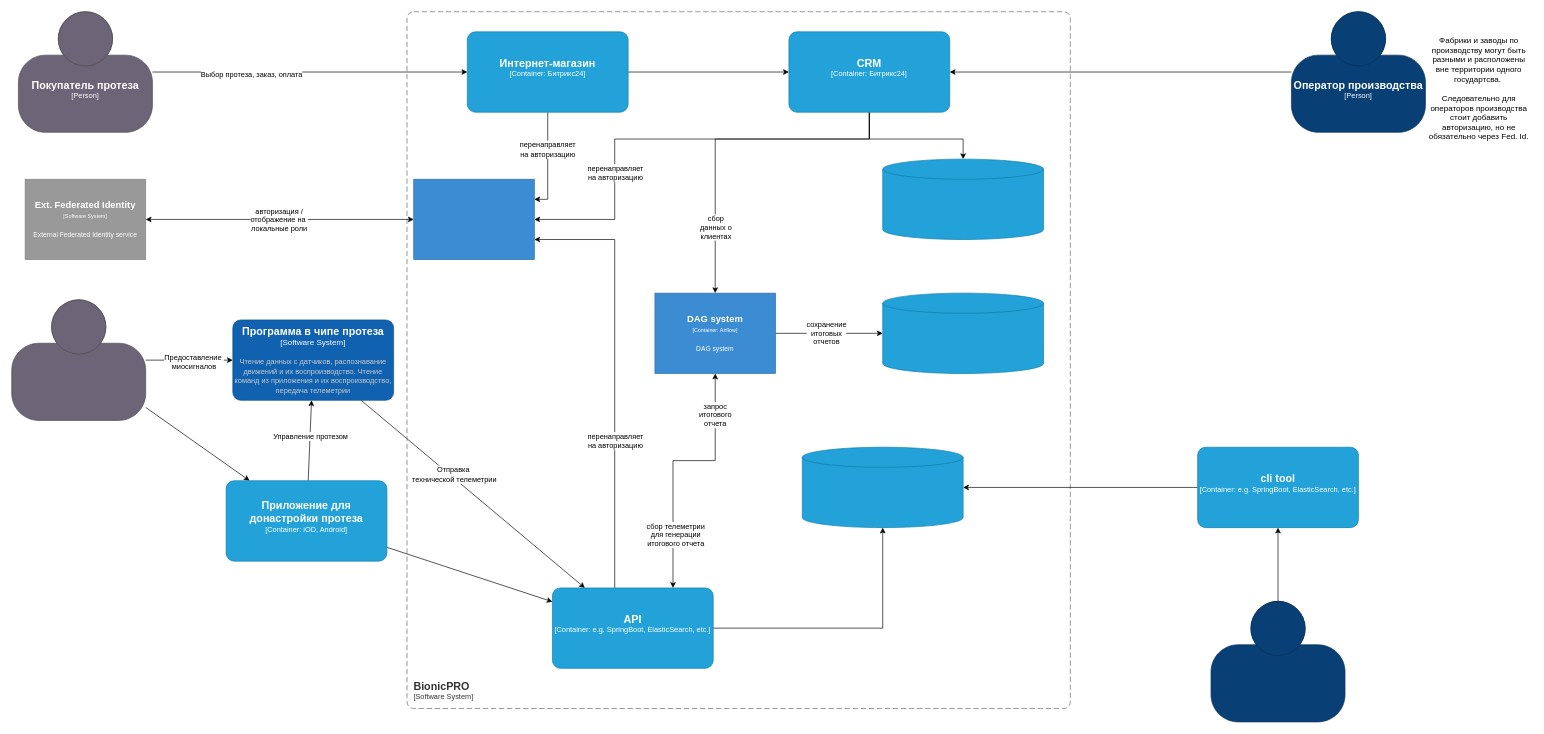
Image size: 1544x734. Some labels were removed from this diagram. The centre of each missing label's shape, as x and y in pixels:
CRM DB [Container: e.g. Oracle Database 12]: (x=963, y=199)
DAG DB [Container: e.g. Clickhouse] DAG analytic DB: (x=963, y=333)
Internal IdP [Container: Keycloak] Internal company IdP service: (x=473, y=219)
ML-инженер [Person]: (x=1277, y=661)
База данных [Container: PostgreSQL]: (x=882, y=487)
Пилот протеза [Person] С этого человека считываются данные: (x=78, y=359)
